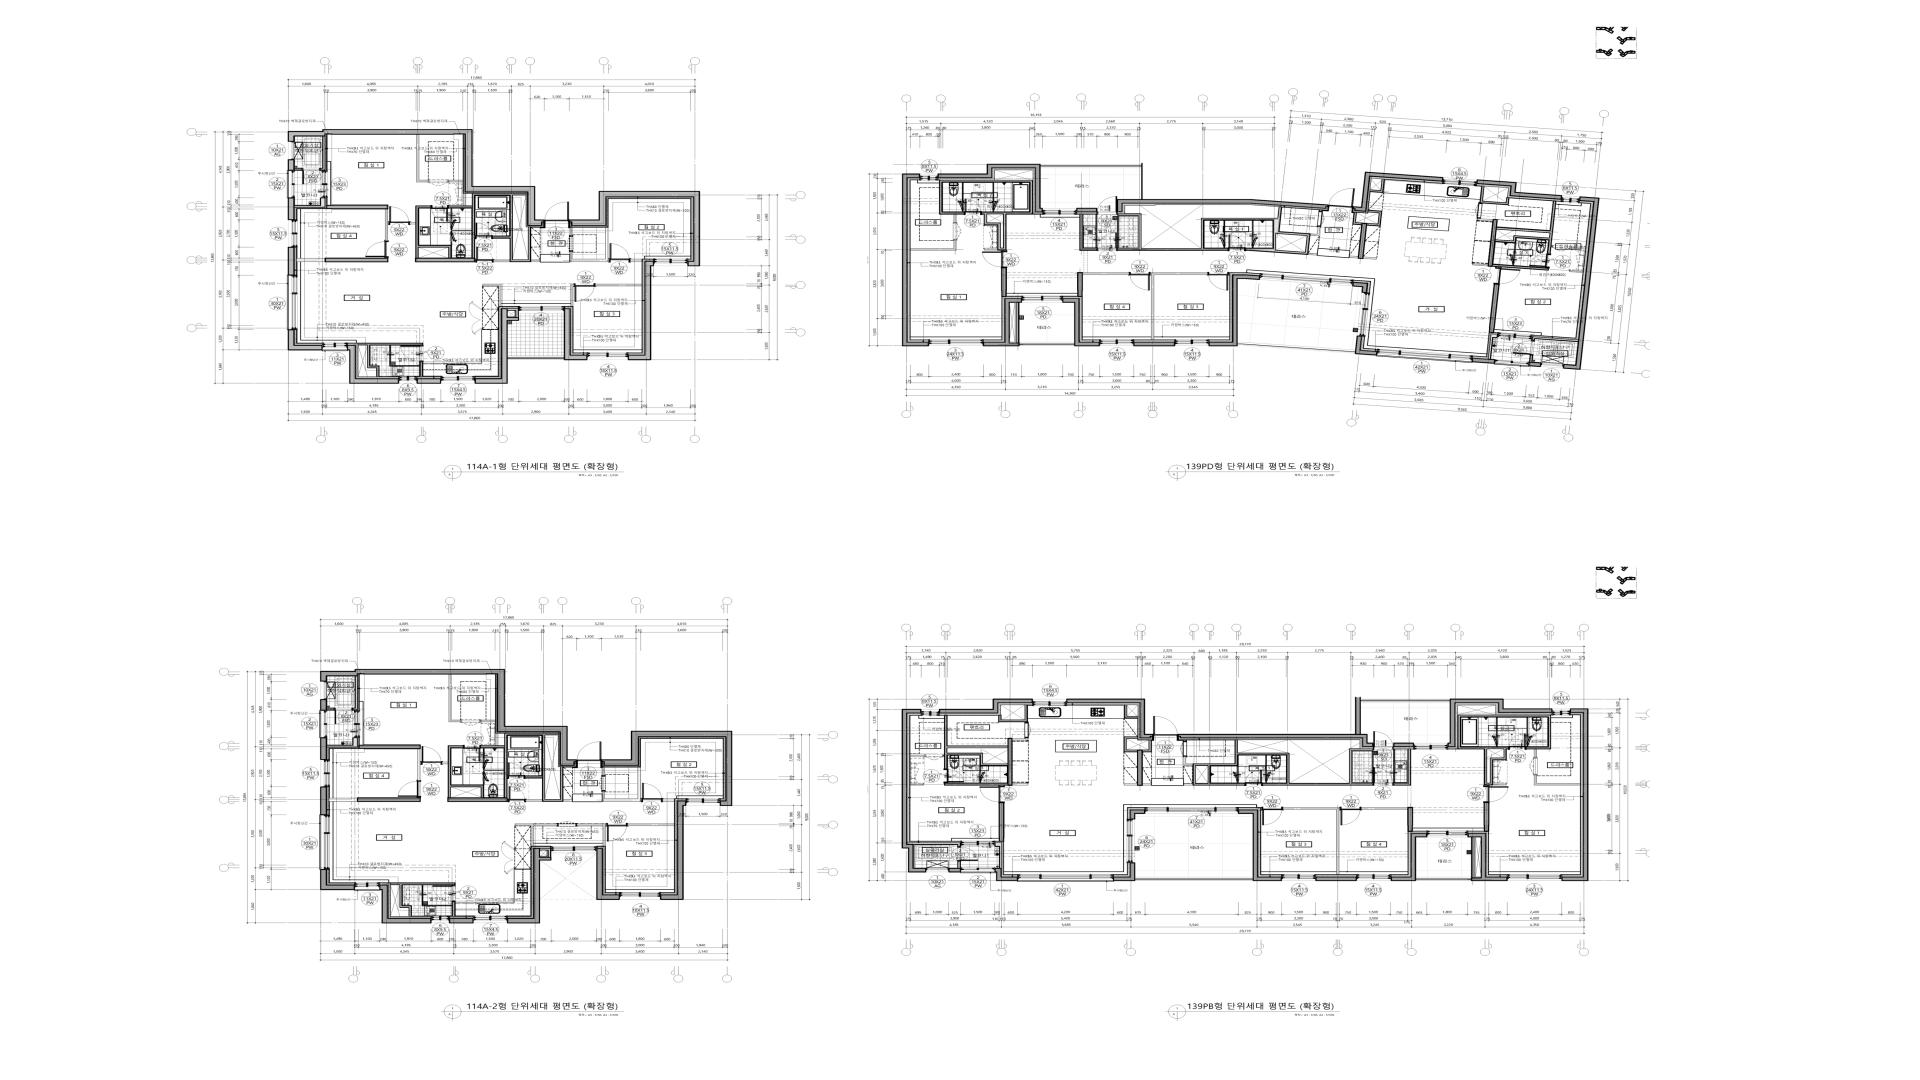door: (543, 203, 570, 228), (576, 741, 601, 767), (1153, 716, 1178, 741), (1329, 187, 1356, 210), (1494, 268, 1520, 286), (608, 243, 630, 262), (1484, 786, 1509, 803), (980, 786, 1005, 803), (982, 251, 1007, 268), (1261, 807, 1283, 825), (1129, 272, 1151, 290), (605, 823, 628, 841), (400, 345, 423, 363), (1340, 807, 1361, 825), (1373, 767, 1394, 786), (1373, 732, 1394, 750), (1208, 272, 1229, 290), (1097, 232, 1118, 251), (574, 284, 595, 302), (388, 207, 409, 225), (421, 746, 442, 765), (641, 783, 662, 802), (433, 885, 455, 902), (398, 781, 421, 798), (365, 241, 389, 257), (1097, 196, 1117, 215), (1513, 340, 1535, 355), (1530, 253, 1552, 268), (475, 223, 493, 240), (302, 167, 320, 185), (1228, 235, 1246, 252), (463, 745, 481, 762), (943, 769, 964, 783), (957, 847, 978, 861), (1509, 733, 1526, 750), (508, 762, 525, 779), (475, 247, 493, 262), (508, 786, 526, 802), (335, 708, 352, 724), (1245, 770, 1262, 786), (431, 206, 448, 222), (964, 199, 981, 215), (1551, 245, 1572, 252), (1530, 758, 1538, 775), (953, 223, 961, 240), (924, 754, 944, 761), (429, 179, 448, 186), (1474, 203, 1482, 219), (460, 720, 481, 725), (1025, 723, 1031, 738), (558, 822, 576, 827)
wall: (320, 669, 576, 766), (287, 129, 543, 225), (1118, 206, 1321, 256), (601, 731, 732, 806), (570, 191, 700, 266), (1178, 698, 1373, 748), (1184, 740, 1373, 786), (939, 179, 1033, 251), (1458, 715, 1551, 786), (448, 194, 539, 262), (481, 733, 572, 802), (1564, 196, 1600, 371), (938, 164, 1043, 212), (1448, 699, 1552, 748), (1561, 708, 1589, 881), (902, 174, 928, 347), (902, 709, 926, 873), (1283, 807, 1340, 874), (1151, 273, 1208, 340), (1209, 274, 1261, 347), (1353, 171, 1444, 212), (1040, 164, 1143, 199), (944, 715, 1007, 769), (1067, 699, 1153, 738), (506, 848, 551, 923), (475, 309, 520, 384), (1495, 200, 1557, 253), (1238, 810, 1282, 881), (1117, 199, 1329, 212), (659, 800, 686, 901), (628, 261, 654, 360), (409, 206, 452, 257), (442, 745, 484, 798), (359, 343, 423, 377), (390, 882, 455, 916), (347, 345, 400, 384), (380, 885, 431, 923), (982, 298, 1022, 347), (1468, 833, 1507, 881), (1477, 179, 1563, 200), (1063, 298, 1100, 347), (1391, 833, 1427, 881), (939, 699, 1033, 713), (570, 228, 608, 262), (603, 767, 641, 802), (596, 848, 620, 901), (1238, 343, 1356, 353), (564, 309, 588, 360), (514, 824, 558, 847), (320, 869, 355, 890), (287, 330, 322, 351), (576, 824, 605, 847), (1394, 749, 1411, 786), (1080, 214, 1097, 251), (1480, 186, 1510, 206), (448, 674, 460, 723), (417, 135, 429, 182), (1489, 285, 1499, 332), (1487, 219, 1498, 266), (998, 705, 1027, 723), (1534, 775, 1580, 786), (910, 240, 956, 251), (1135, 877, 1253, 881), (1354, 336, 1377, 356), (1113, 862, 1135, 881), (483, 284, 501, 306), (1493, 264, 1549, 270), (1361, 699, 1449, 703), (1358, 223, 1367, 260), (326, 204, 388, 210), (327, 737, 357, 748), (415, 257, 475, 262), (1532, 336, 1578, 343), (996, 868, 1018, 881), (294, 198, 324, 207), (1487, 334, 1498, 359), (998, 803, 1005, 843), (1007, 738, 1013, 786), (357, 798, 421, 802), (324, 258, 388, 262), (1367, 210, 1382, 227), (359, 745, 421, 749), (1137, 749, 1143, 786), (447, 798, 508, 802), (1124, 737, 1138, 753), (1416, 877, 1472, 881), (1019, 342, 1075, 345), (508, 356, 563, 360), (1134, 342, 1175, 347), (907, 843, 961, 847), (994, 843, 1002, 868), (1125, 704, 1138, 719), (1484, 803, 1490, 832), (320, 786, 327, 815), (287, 247, 294, 276), (1370, 179, 1385, 193), (1001, 268, 1007, 297), (352, 676, 357, 711), (320, 137, 326, 170), (944, 783, 1007, 786), (1130, 810, 1146, 820), (1353, 282, 1369, 293), (1407, 807, 1414, 832), (1316, 877, 1357, 881), (320, 737, 327, 760), (287, 198, 294, 220), (1473, 357, 1495, 364), (448, 918, 473, 923), (417, 378, 442, 384), (1077, 272, 1083, 297), (595, 284, 642, 286), (1361, 807, 1407, 810), (1143, 740, 1153, 753), (1353, 212, 1362, 225), (328, 798, 357, 802), (297, 258, 324, 262), (1472, 837, 1474, 878), (1394, 742, 1414, 748), (1017, 303, 1019, 343), (508, 309, 518, 318), (541, 848, 551, 857), (418, 749, 421, 781), (385, 210, 388, 241), (1076, 208, 1097, 212), (320, 699, 327, 711), (287, 160, 294, 171), (451, 902, 456, 916), (948, 868, 961, 873), (1530, 361, 1542, 367), (1083, 273, 1129, 274), (628, 824, 674, 825), (571, 284, 574, 306), (419, 363, 423, 377), (630, 258, 642, 262), (1013, 783, 1029, 786), (1477, 219, 1493, 222), (1569, 270, 1584, 273), (1473, 264, 1487, 266), (1572, 247, 1586, 249), (481, 720, 496, 723), (1124, 783, 1137, 786), (1364, 257, 1377, 260), (1530, 355, 1534, 363), (496, 733, 498, 745), (662, 799, 674, 802), (957, 861, 961, 868), (295, 167, 302, 171), (1349, 256, 1358, 258), (603, 767, 605, 775), (1143, 783, 1151, 786), (1013, 738, 1029, 740), (570, 228, 572, 236), (910, 756, 924, 757), (448, 181, 463, 182), (910, 785, 923, 786), (327, 708, 334, 711)
window: (1377, 349, 1473, 363), (1261, 273, 1353, 286), (1018, 874, 1113, 882), (286, 276, 298, 330), (1146, 807, 1238, 814), (1357, 293, 1370, 336), (319, 815, 330, 869), (1126, 820, 1135, 862), (518, 306, 564, 314), (1507, 874, 1561, 881), (928, 339, 982, 345), (587, 352, 628, 360), (620, 891, 659, 899), (551, 847, 596, 853), (1033, 699, 1067, 707), (686, 798, 720, 806), (1443, 178, 1477, 186), (1498, 332, 1532, 340), (1427, 831, 1468, 837), (1022, 295, 1063, 302), (473, 915, 506, 923), (654, 258, 687, 266), (442, 376, 475, 384), (320, 760, 330, 786), (289, 220, 298, 247), (286, 171, 295, 198), (355, 882, 380, 891), (1414, 744, 1448, 750), (1357, 874, 1391, 881), (1282, 874, 1316, 881), (1495, 360, 1530, 367), (1175, 339, 1209, 345), (1100, 339, 1134, 345), (1043, 208, 1076, 215), (352, 711, 360, 737), (319, 711, 327, 737), (323, 343, 347, 351), (961, 868, 996, 873), (961, 841, 994, 847), (320, 171, 327, 198), (1561, 195, 1580, 203), (431, 915, 448, 923), (400, 376, 417, 384), (1552, 709, 1571, 716), (1542, 363, 1564, 368), (922, 709, 939, 716), (920, 174, 938, 181), (320, 682, 327, 699), (289, 142, 294, 160), (926, 868, 948, 872)
